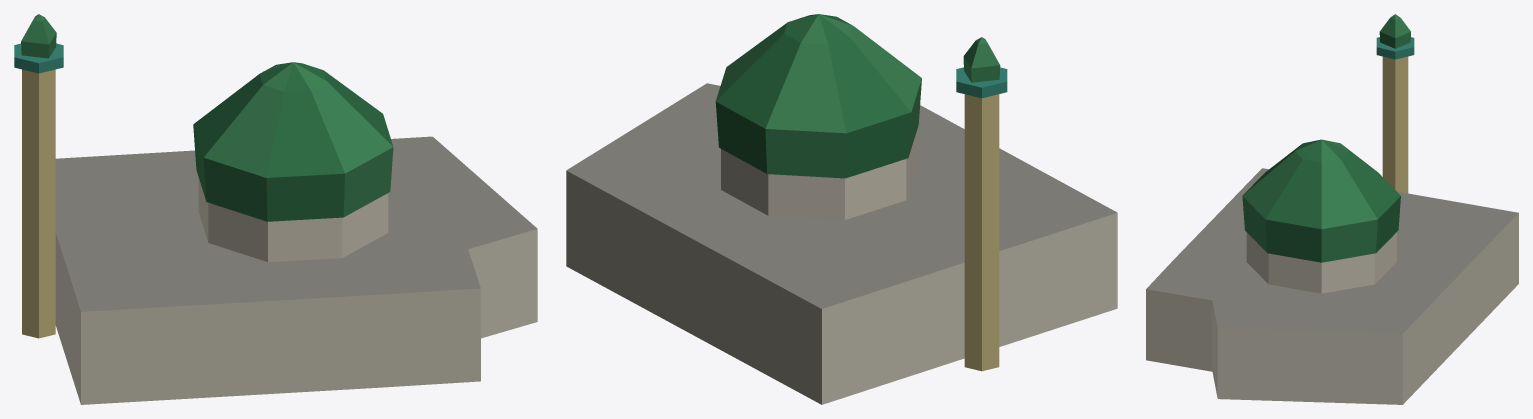
File: masjid-raya-senapelan-lod2.glb
3 renders of one model, left to right at view 1: azimuth 30°, elevation 25°; view 2: azimuth 150°, elevation 25°; view 3: azimuth 270°, elevation 25°, orthographic. The views are drawn at different scales.
Visible parts, largest first — view 1: masjid-raya-senapelan_LOD2; view 2: masjid-raya-senapelan_LOD2; view 3: masjid-raya-senapelan_LOD2.
Part boxes in pixels (x1=…): masjid-raya-senapelan_LOD2: x1=14, y1=14, x2=537, y2=404; masjid-raya-senapelan_LOD2: x1=566, y1=14, x2=1117, y2=404; masjid-raya-senapelan_LOD2: x1=1146, y1=14, x2=1518, y2=404.
Bounding box in the file's own units: 44.9 × 30.6 × 42.7.
